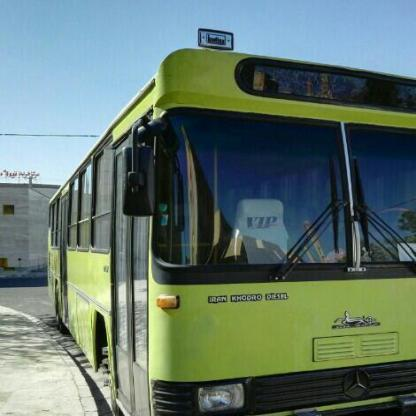Bus: (19, 35, 416, 416)
